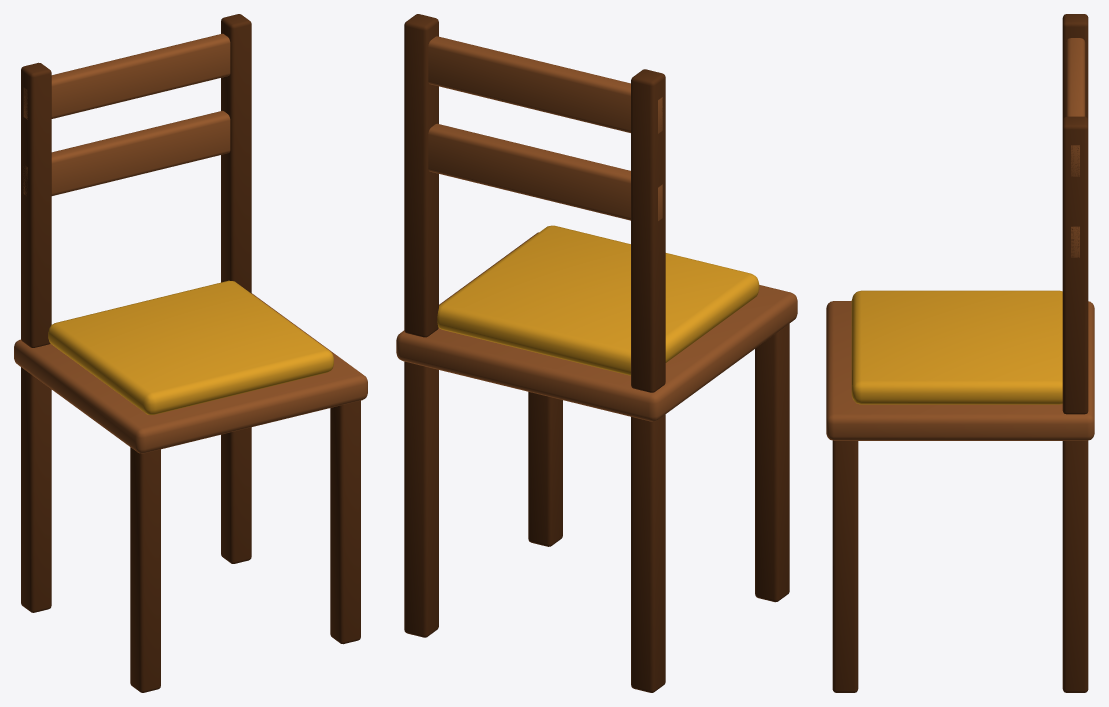
The model's file is chair.glb.
The picture shows the model from 3 angles, left to right: view 1: azimuth 30°, elevation 25°; view 2: azimuth 150°, elevation 25°; view 3: azimuth 270°, elevation 25°; orthographic projection. The views are drawn at different scales.
Parts seen in each view (by area): view 1: chair; view 2: chair; view 3: chair.
Boxes of the visible parts, bbox=[...] form: chair: bbox=[14, 14, 367, 692]; chair: bbox=[396, 14, 797, 692]; chair: bbox=[826, 14, 1094, 692].
Bounding box in the file's own units: 0.44 × 0.98 × 0.42.
